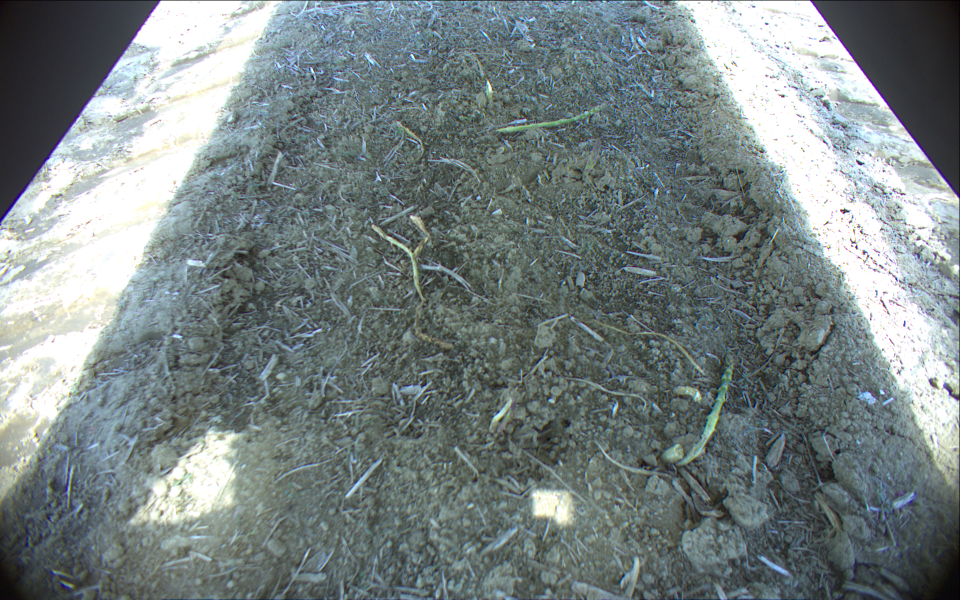aspa: (684, 359, 737, 468), (371, 224, 423, 300), (498, 100, 610, 134), (667, 444, 683, 467)
